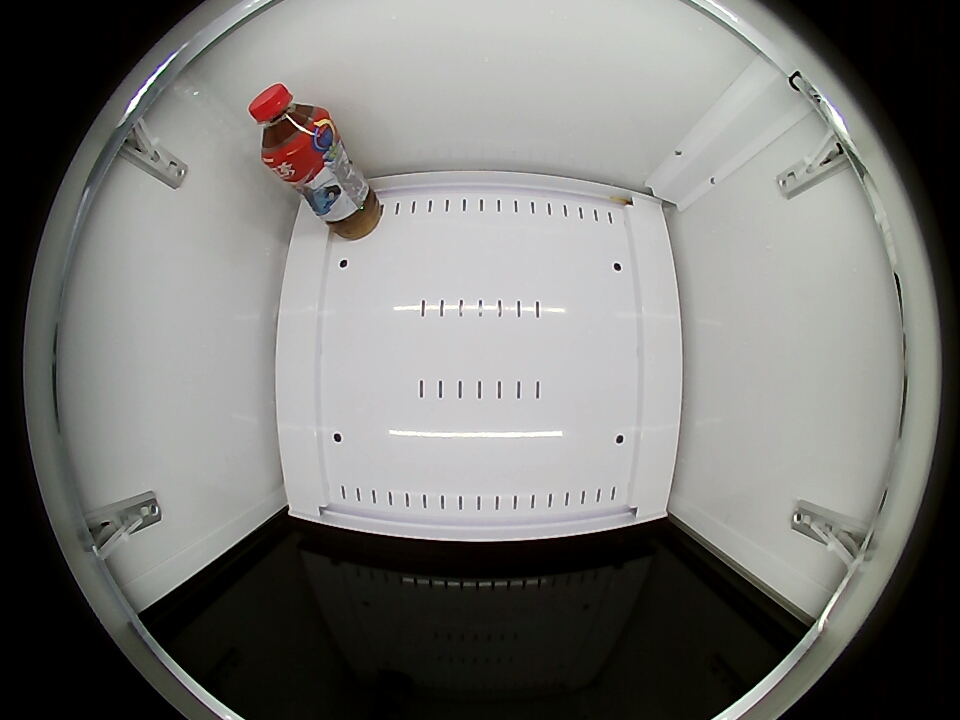binghongcha: (248, 82, 331, 171)
